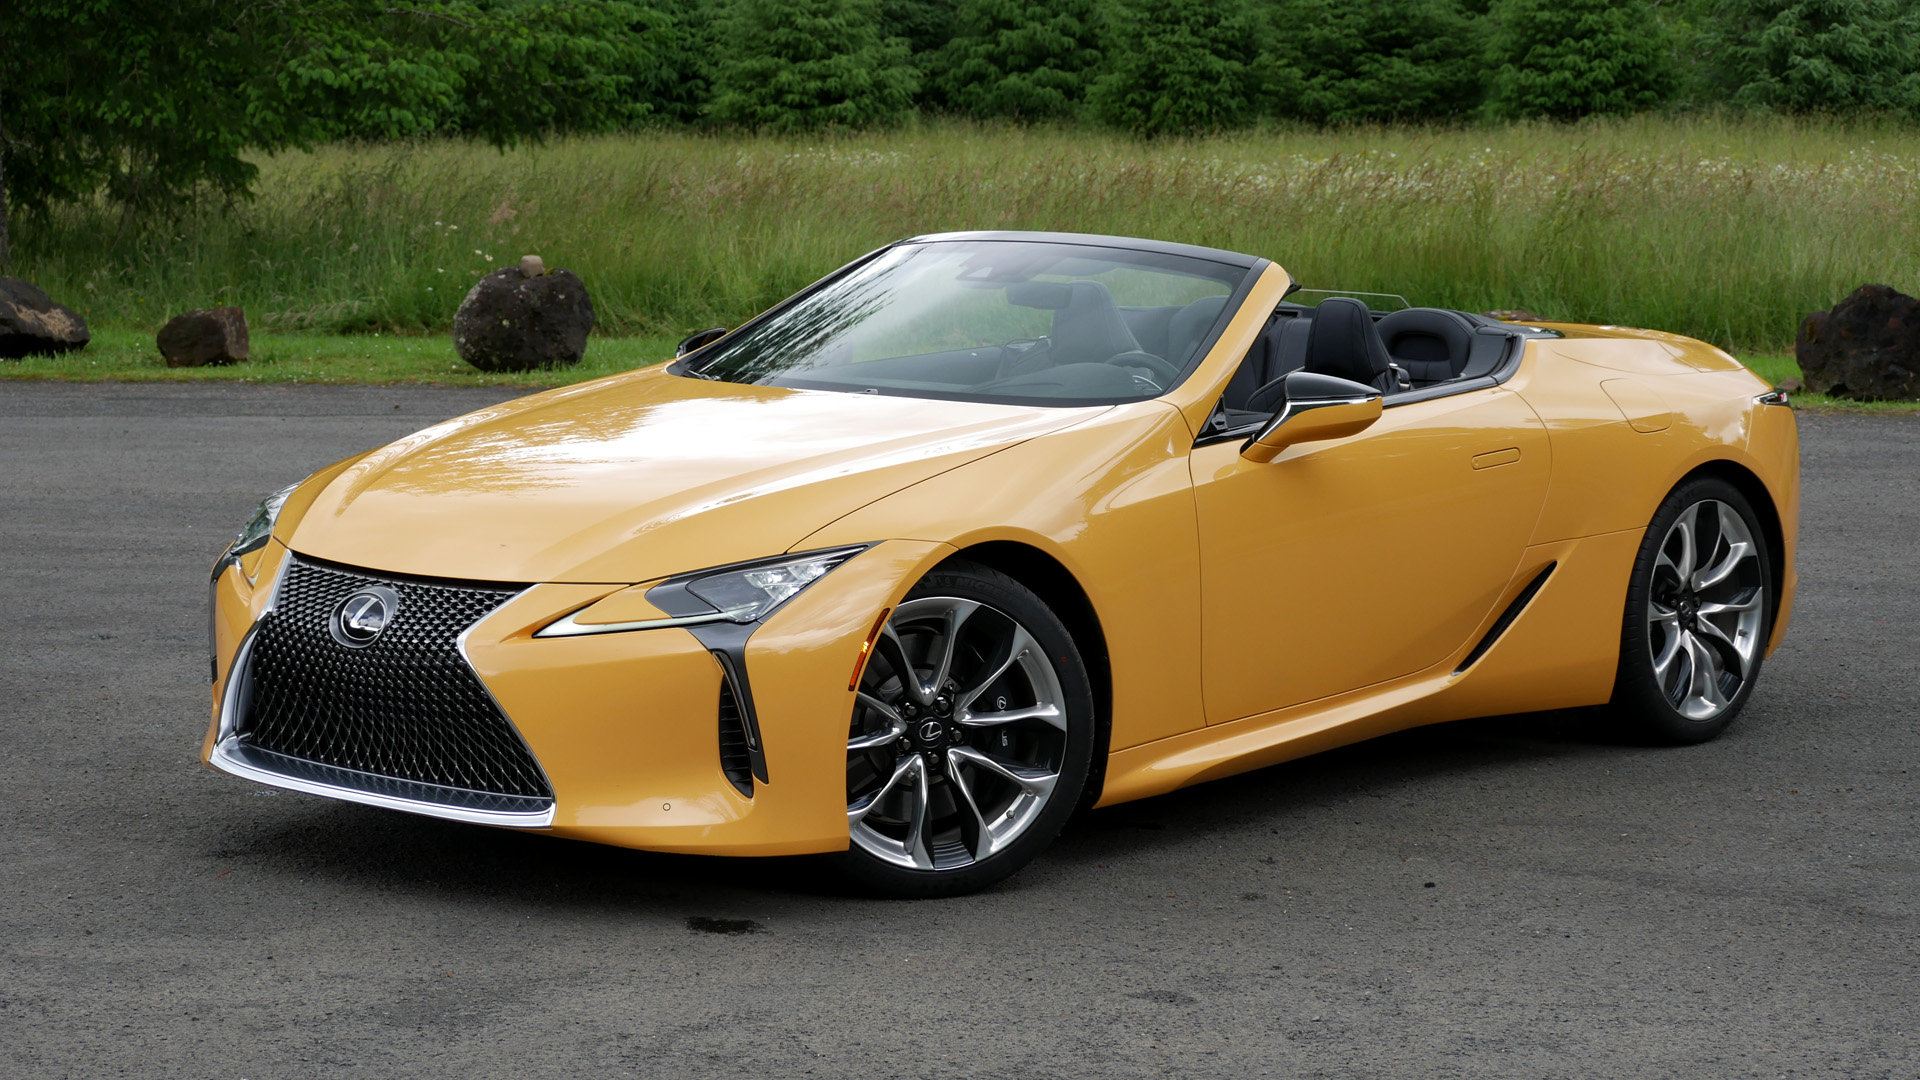car: (199, 231, 1797, 899)
